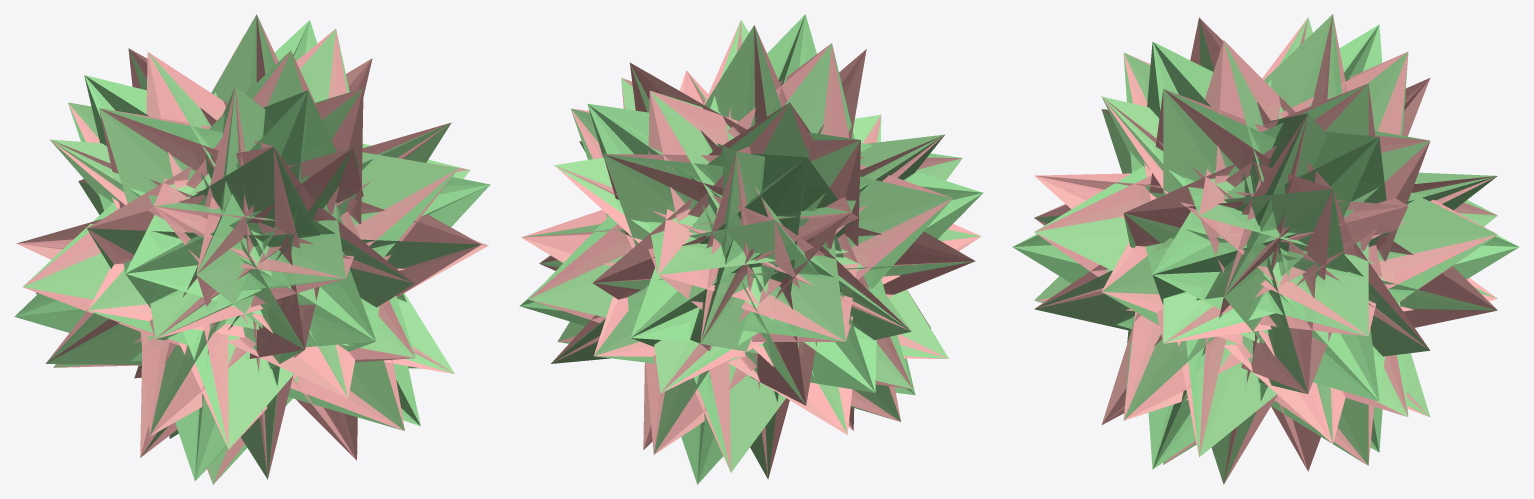
File: 43_Dodekexcavated_Girsid.obj
3 views of the same model, side by side, from view 1: azimuth 30°, elevation 25°; view 2: azimuth 150°, elevation 25°; view 3: azimuth 270°, elevation 25° (orthographic). The views are drawn at different scales.
Size of the model in its own units: 1.11 by 1.14 by 1.21.
